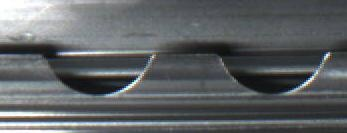twou: (47, 41, 307, 104)
